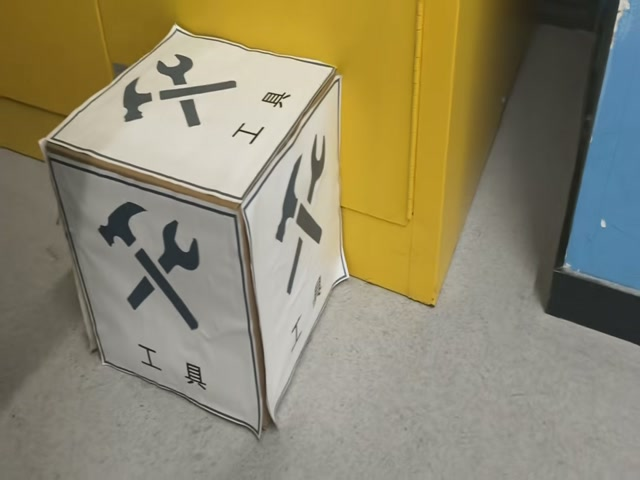Cube_tool: (35, 25, 349, 218)
